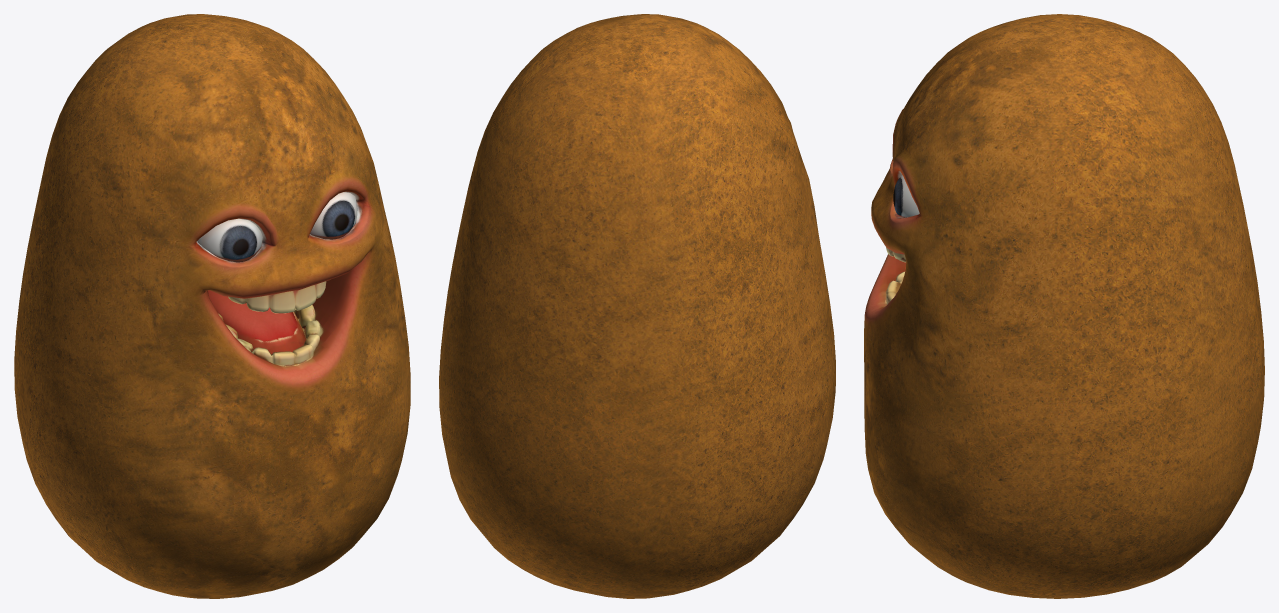
Rendered from cher.glb.
3 renders of one model, left to right at view 1: azimuth 30°, elevation 25°; view 2: azimuth 150°, elevation 25°; view 3: azimuth 270°, elevation 25°, orthographic.
Visible parts, largest first — view 1: tripo_node_9caa73ec-ab20-46b4-807c-8c2673dee30b; view 2: tripo_node_9caa73ec-ab20-46b4-807c-8c2673dee30b; view 3: tripo_node_9caa73ec-ab20-46b4-807c-8c2673dee30b.
Part boxes in pixels (x1,y1,x2,y2): tripo_node_9caa73ec-ab20-46b4-807c-8c2673dee30b: (14,14,410,598); tripo_node_9caa73ec-ab20-46b4-807c-8c2673dee30b: (439,14,835,598); tripo_node_9caa73ec-ab20-46b4-807c-8c2673dee30b: (864,14,1264,598).
Size of the model in its own units: 0.644 by 0.9995 by 0.6694.
Materials: 1 (1 with a texture image).
